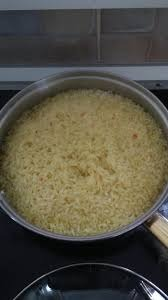pirinc_pilavi: (1, 89, 167, 235)
